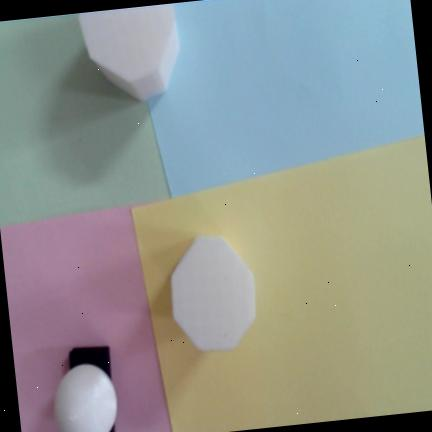Esfera: (53, 364, 117, 432)
Paralelepipedo: (69, 346, 115, 432)
Prisma_hexagonal: (170, 235, 256, 353), (78, 4, 179, 100)
